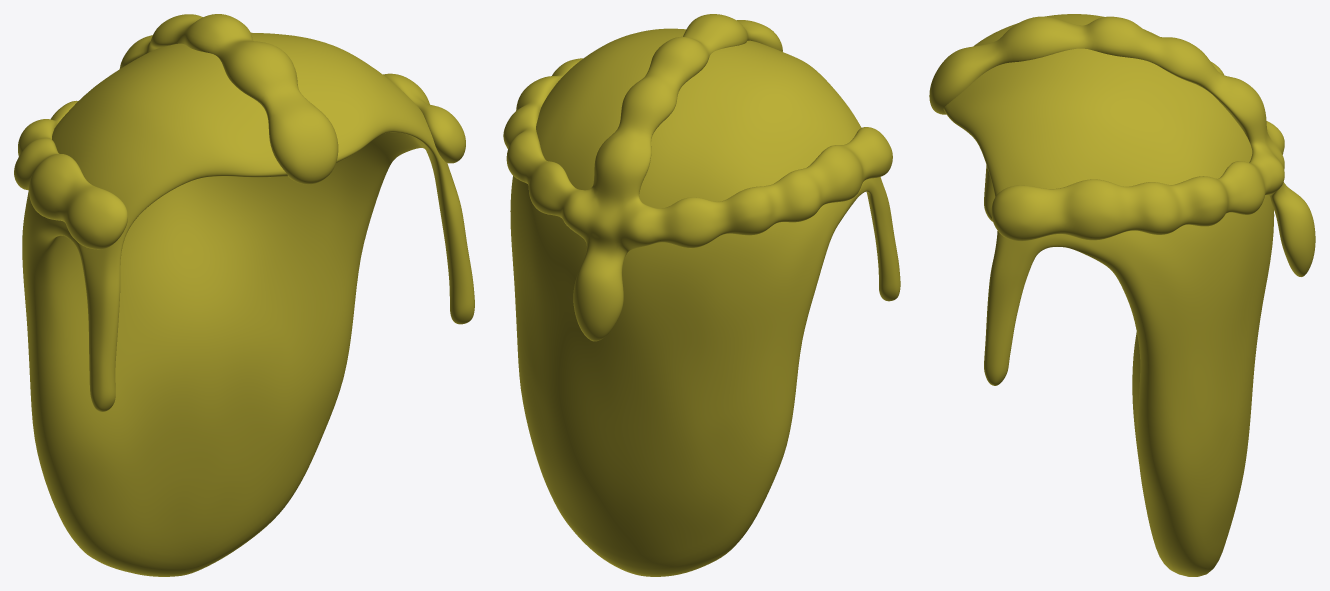
File: Hair_Lara.fbx
The picture shows the model from 3 angles, left to right: view 1: azimuth 30°, elevation 25°; view 2: azimuth 150°, elevation 25°; view 3: azimuth 270°, elevation 25°; orthographic projection. The views are drawn at different scales.
Parts seen in each view (by area): view 1: PrincesaLaraHairBase, PrincesaLaraBuns; view 2: PrincesaLaraHairBase, PrincesaLaraBuns; view 3: PrincesaLaraHairBase, PrincesaLaraBuns.
Boxes of the visible parts, x1,y1,x2,y2 form: PrincesaLaraHairBase: (22,32,474,576); PrincesaLaraBuns: (14,14,465,249); PrincesaLaraHairBase: (510,28,900,576); PrincesaLaraBuns: (503,14,892,341); PrincesaLaraHairBase: (943,14,1274,576); PrincesaLaraBuns: (929,16,1315,276).
Size of the model in its own units: 1.69 by 2.44 by 1.56.
